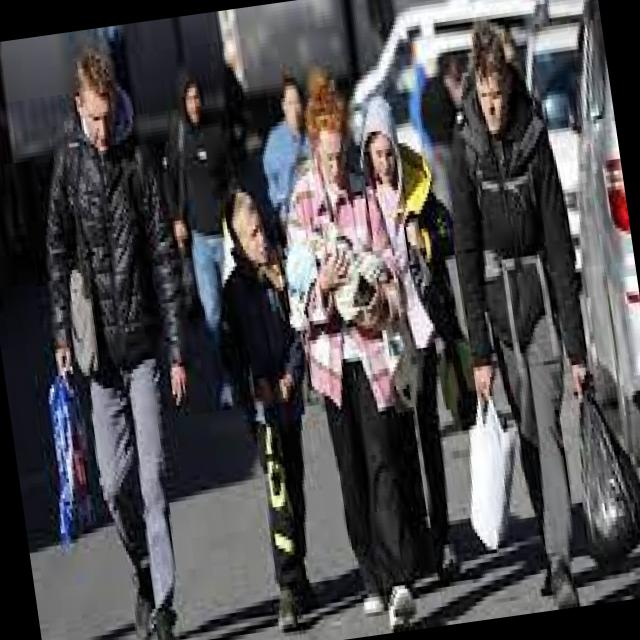Jacket: (432, 96, 598, 413), (12, 126, 192, 418), (270, 176, 416, 434), (206, 246, 318, 436), (154, 114, 242, 260)
